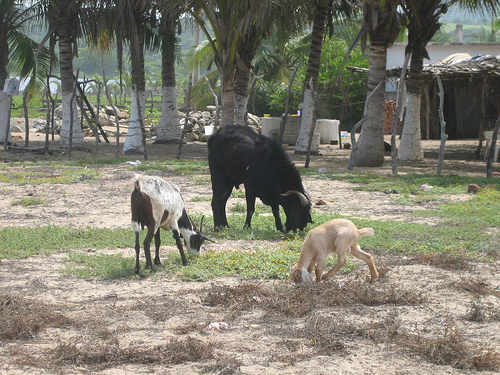goat: (206, 124, 313, 234), (130, 172, 214, 273), (289, 218, 381, 287)
